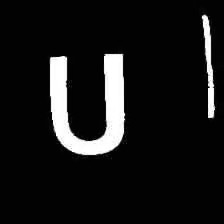LTR_U: (42, 41, 133, 162)
